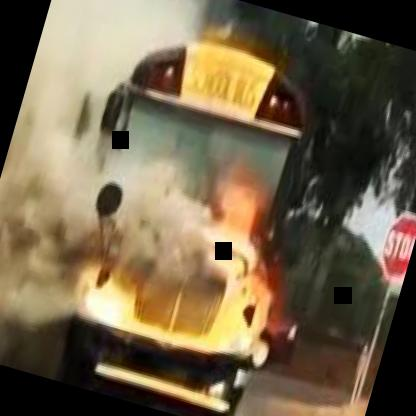fire: (0, 106, 267, 303)
